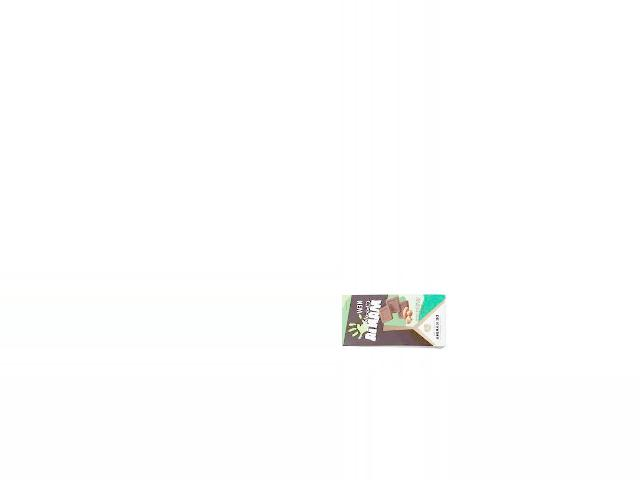chocolate: (340, 291, 447, 349)
